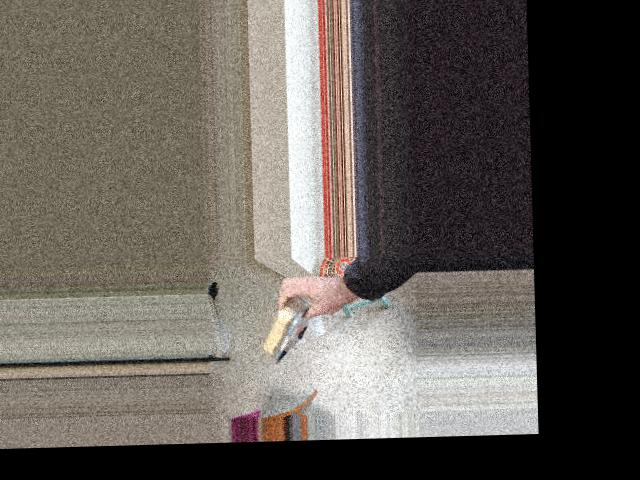cheese: (246, 263, 329, 367)
